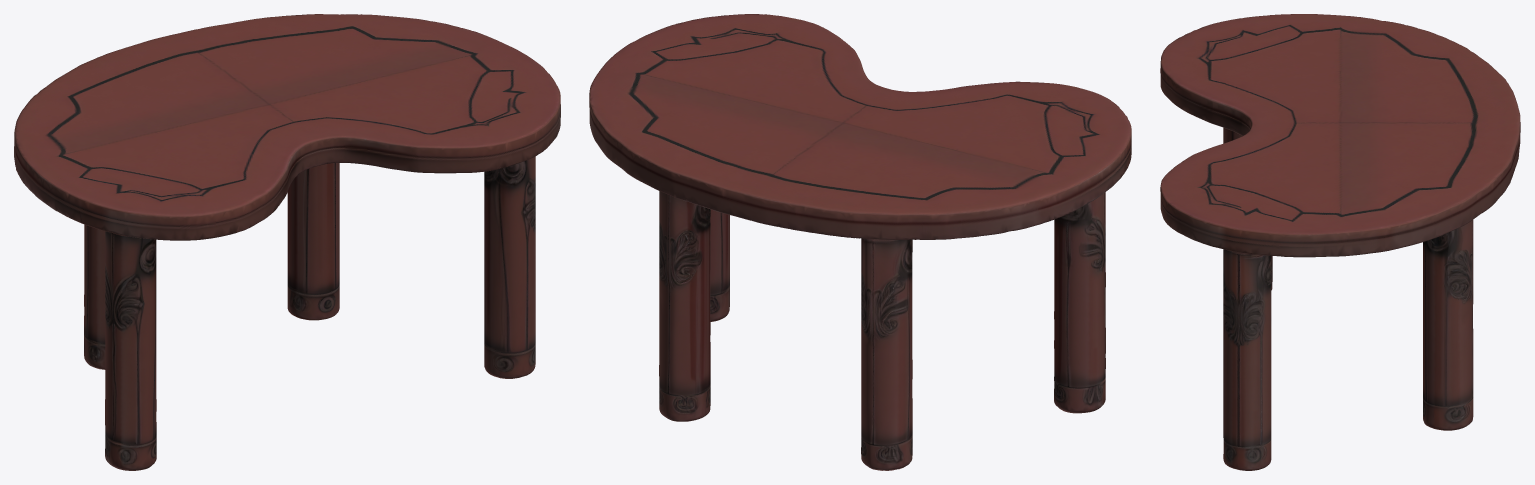
3 renders of one model, left to right at view 1: azimuth 30°, elevation 25°; view 2: azimuth 150°, elevation 25°; view 3: azimuth 270°, elevation 25°, orthographic. The views are drawn at different scales.
Bounding box in the file's own units: 2 × 1.08 × 1.38.
1 material, 1 textured.
